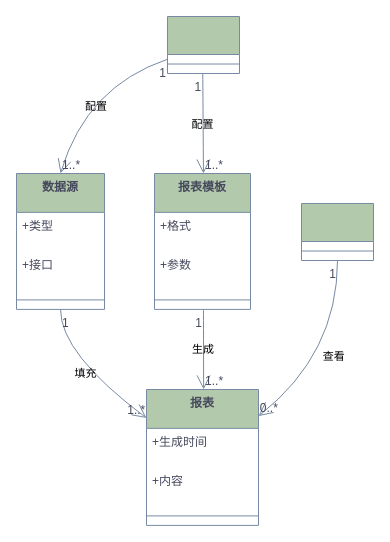
Some shapes in this 390 by 542 pixel diagram are drawn without their labels. Here are the shapes that lost their labels. From the top down, the centre of each, then its label:
At (203,45): "管理员".
At (337,231): "值班员".
